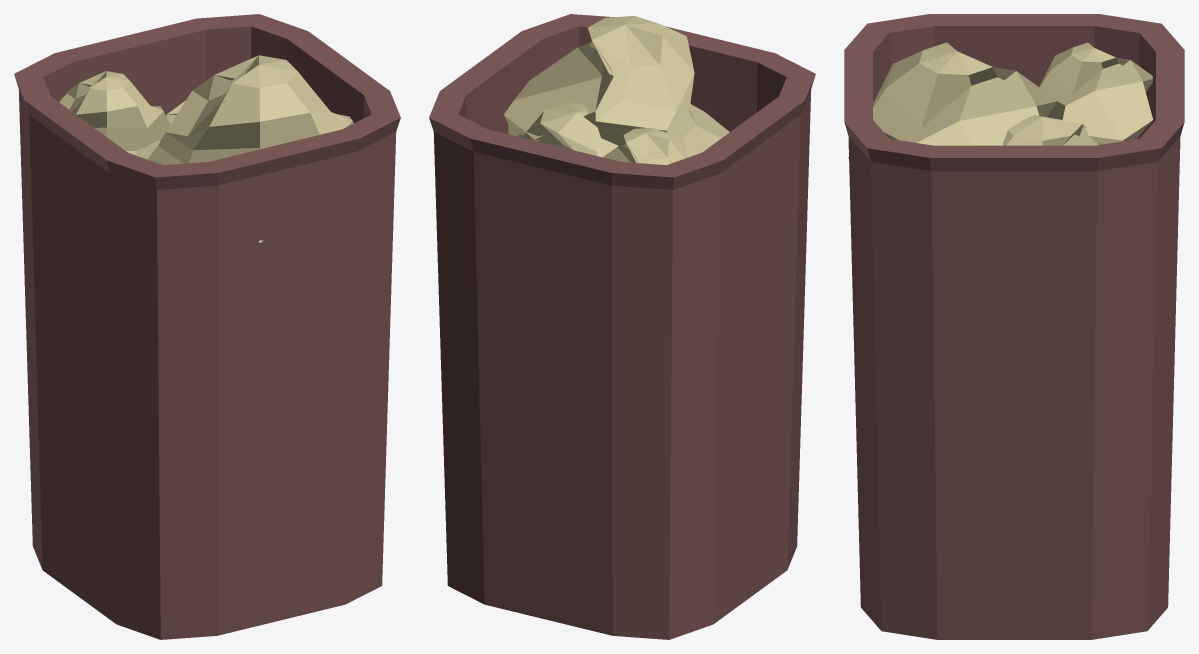
The model's file is Søppeldunk_Med_søppel.fbx.
The picture shows the model from 3 angles, left to right: view 1: azimuth 30°, elevation 25°; view 2: azimuth 150°, elevation 25°; view 3: azimuth 270°, elevation 25°; orthographic projection. The views are drawn at different scales.
Parts seen in each view (by area): view 1: Cube.001, Sphere.001, Sphere.002; view 2: Cube.001, Sphere.001, Sphere, Sphere.002; view 3: Cube.001, Sphere.001, Sphere.002, Sphere.
Part boxes in pixels (<box>): Cube.001: <box>14,14,400,639</box>; Sphere.001: <box>147,55,353,242</box>; Sphere.002: <box>59,71,170,156</box>; Cube.001: <box>429,14,815,639</box>; Sphere.001: <box>504,16,729,157</box>; Sphere: <box>517,103,618,157</box>; Sphere.002: <box>603,128,687,165</box>; Cube.001: <box>844,14,1184,639</box>; Sphere.001: <box>848,42,1057,158</box>; Sphere.002: <box>1039,42,1152,144</box>; Sphere: <box>1003,115,1102,145</box>.
Bounding box in the file's own units: 244 × 424 × 244.
